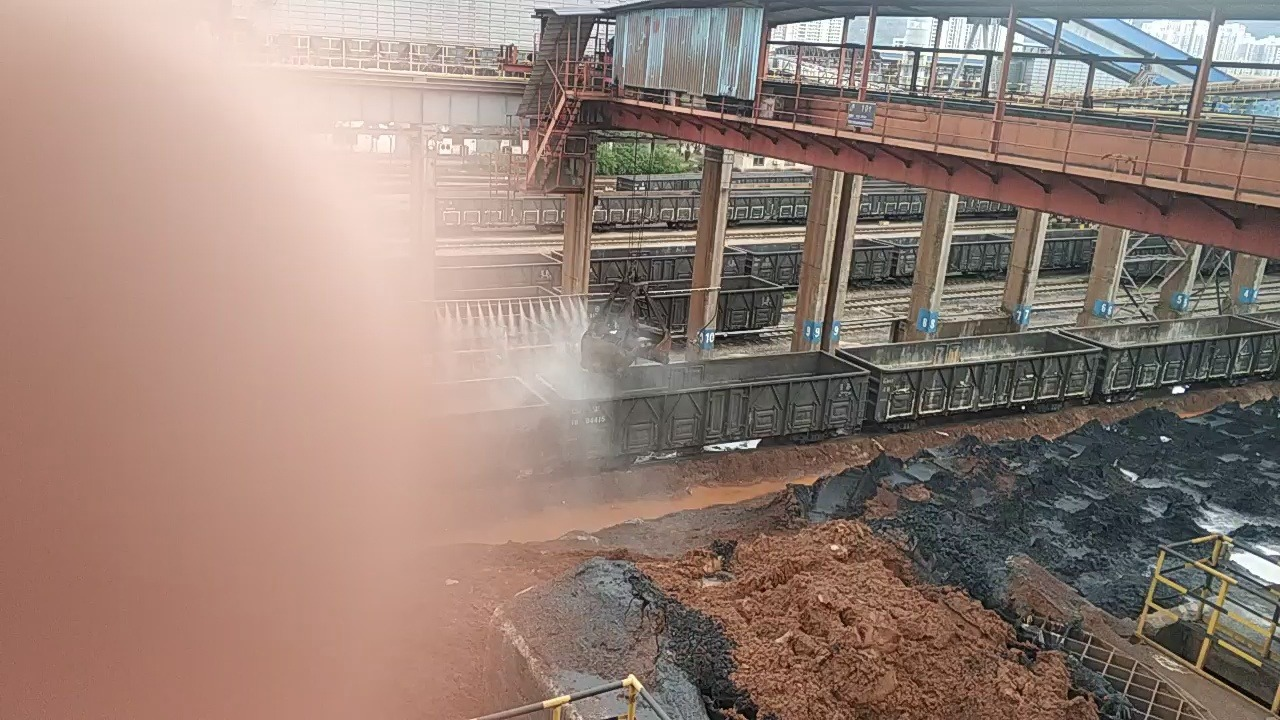dust: (445, 300, 698, 552)
grab: (579, 271, 674, 381)
